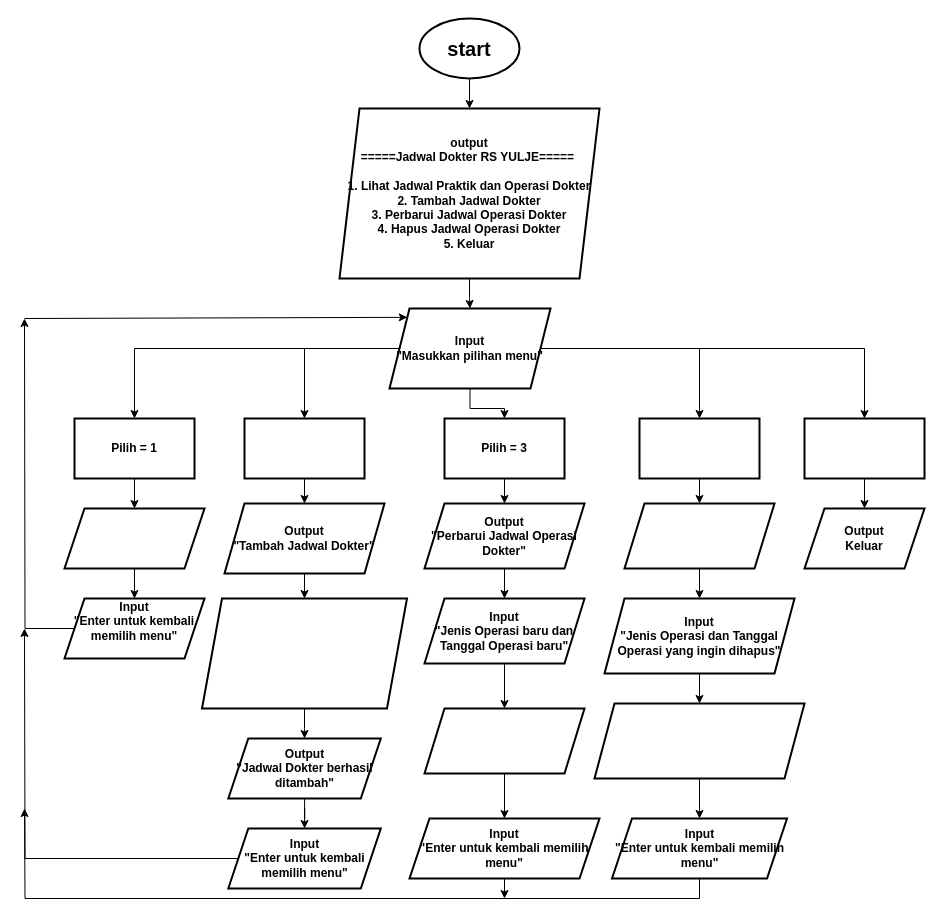
The diagram is 943 pixels wide and 924 high, and some of its shapes have lost their labels. Each missing label, with the centre of its shape:
Input "Nama Dokter, Praktik, Hari, Jam, Jenis Operasi, Jadwal Operasi": point (304, 653)
Output "Hapus Jadwal Operasi": point (699, 535)
Output "Jadwal Operasi berhasil dihapus": point (699, 740)
Output "Jadwal Operasi berhasil diperbarui": point (504, 740)
Output "Lihat Jadwal Dokter": point (134, 538)
Pilih = 2: point (304, 448)
Pilih = 4: point (699, 448)
Pilih = 5: point (864, 448)
